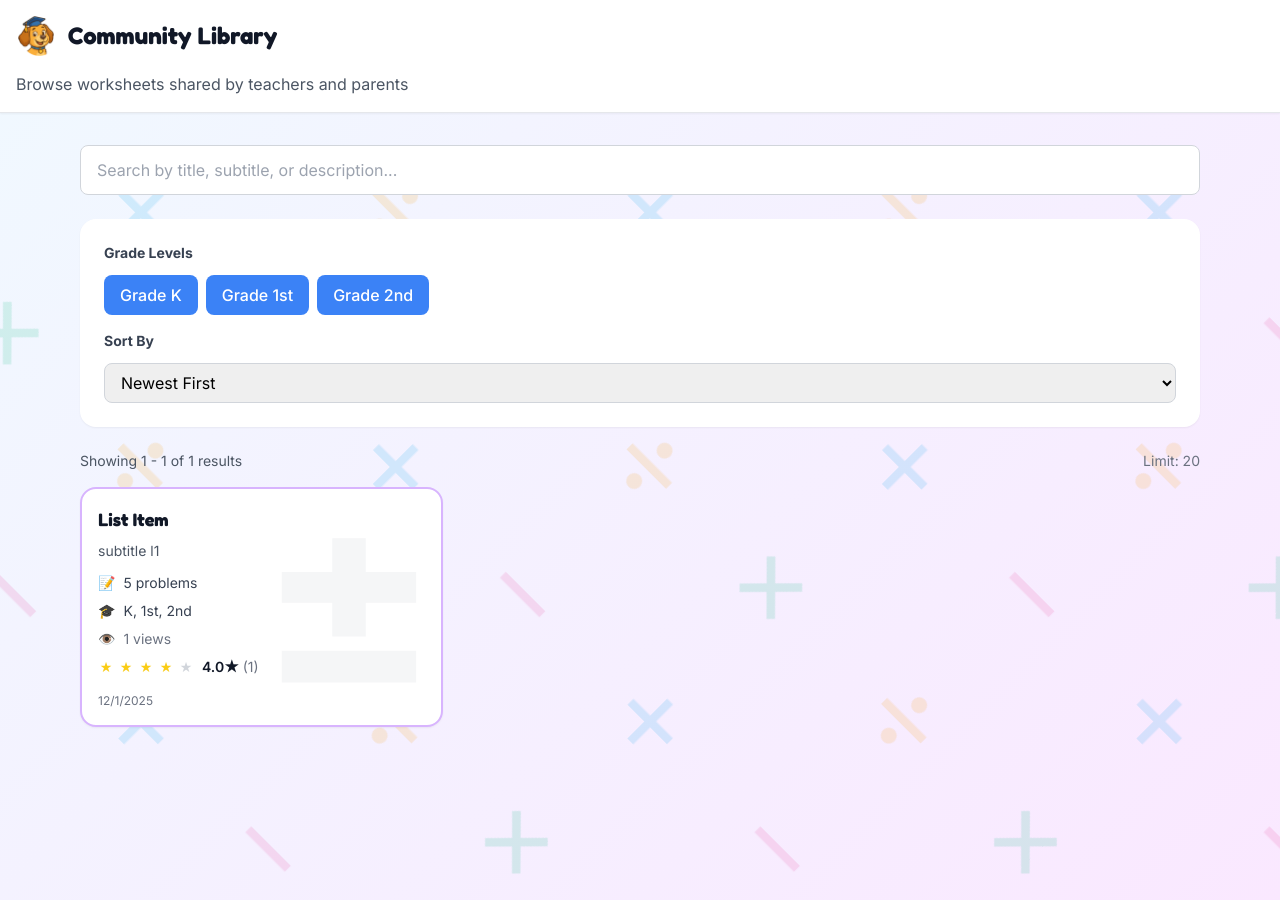
it: SharedWorksheets UI › performs search and displays results
Type "Search Result" into the field with placeholder "Search by title, subtitle, or description...".
click(640, 170); type("Search Result")  # box [80, 145, 1200, 195]
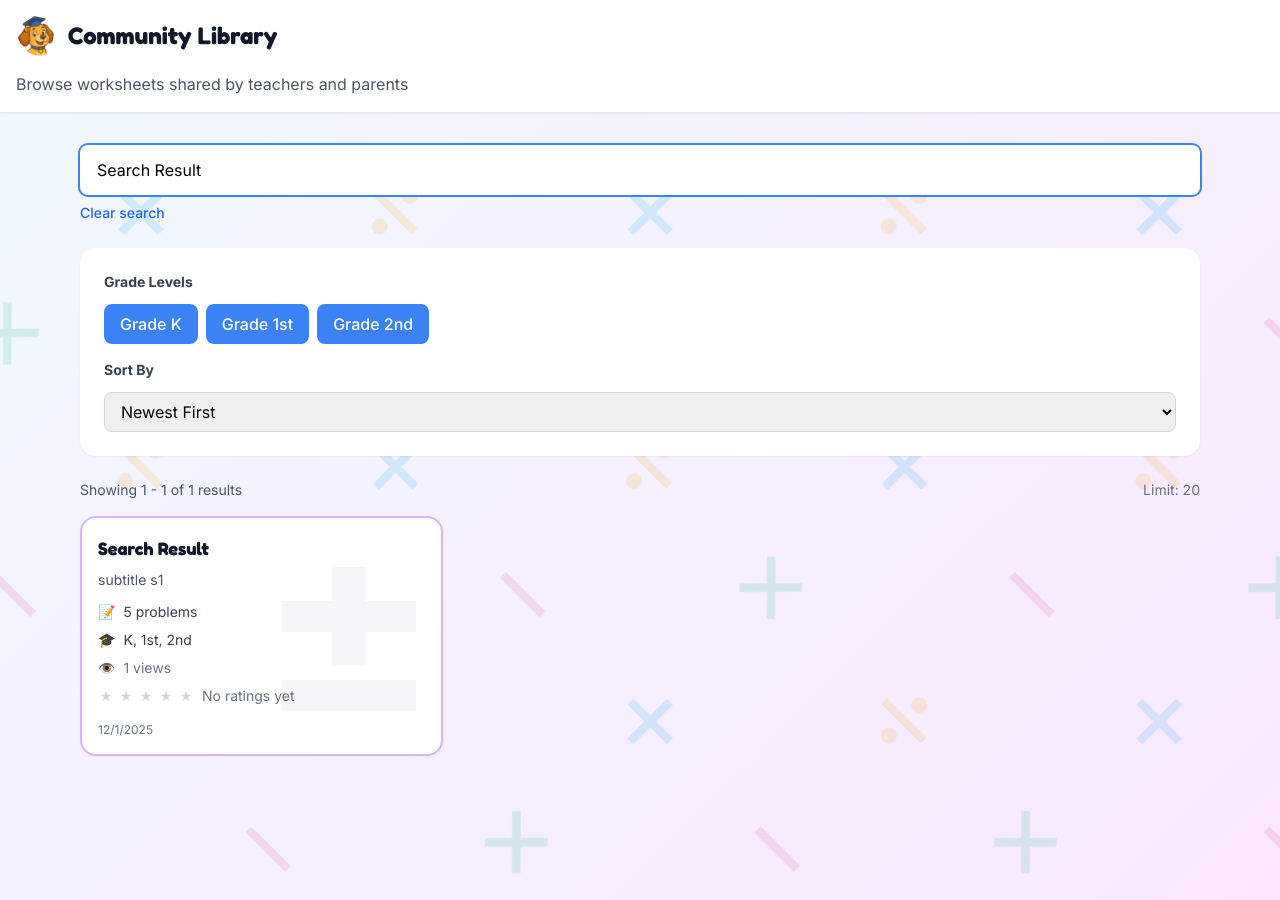
Now the heading "Search Result" is shown, box [98, 537, 209, 559]
